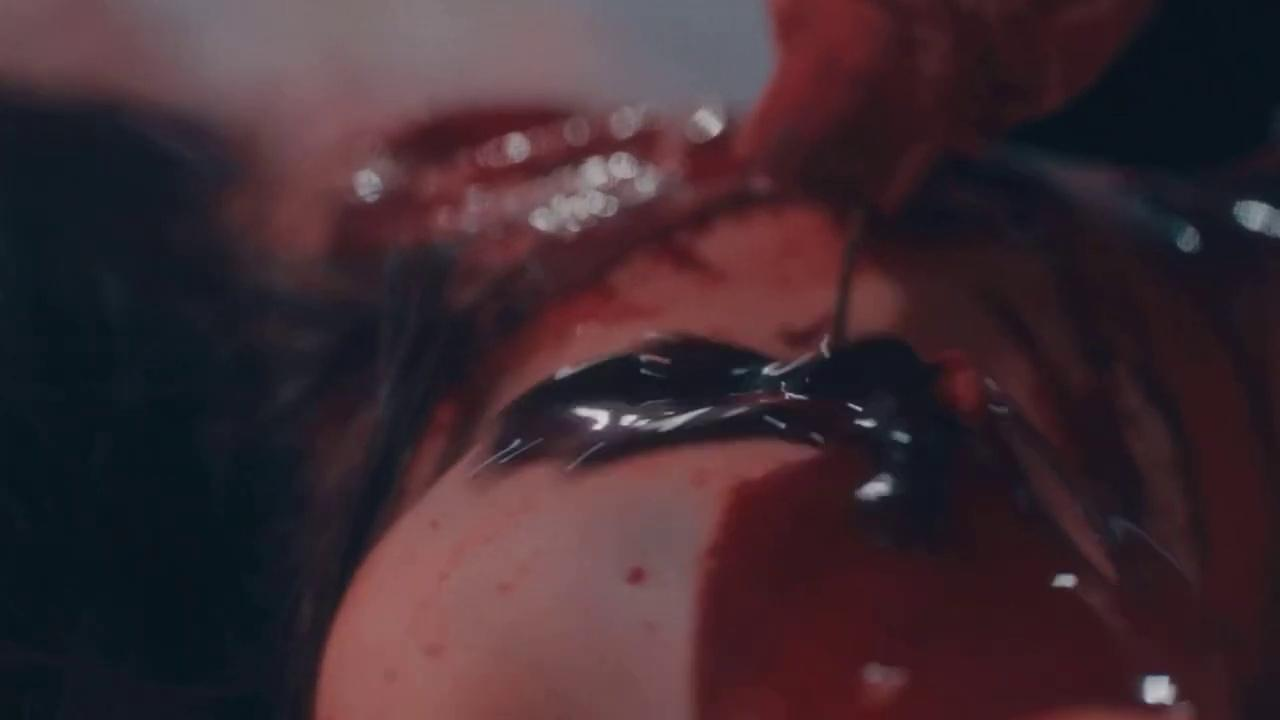Fire: (310, 1, 1280, 718)
